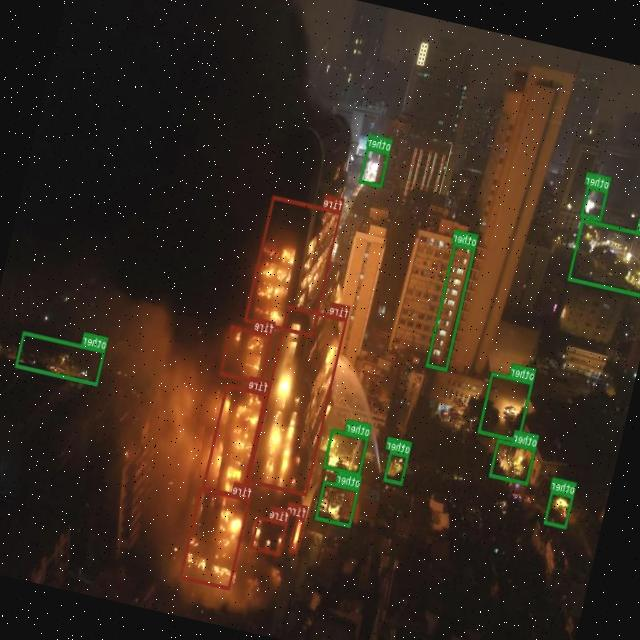fire: (247, 304, 347, 495), (244, 195, 342, 336), (179, 486, 251, 590), (202, 383, 266, 498), (220, 324, 274, 384), (250, 515, 288, 555), (288, 516, 306, 554)
